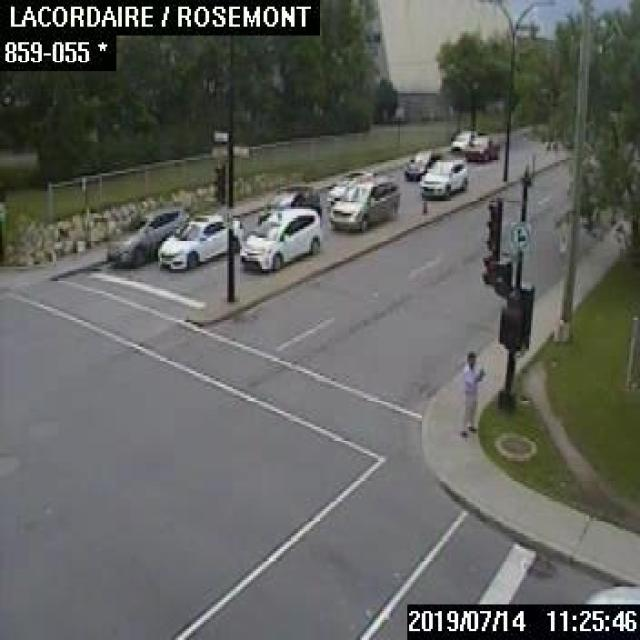pedestrian: (460, 346, 484, 436)
vehicle: (238, 208, 320, 269), (106, 207, 186, 267), (156, 214, 239, 268), (328, 179, 399, 229), (256, 184, 320, 223), (419, 157, 466, 195), (326, 169, 378, 202), (404, 150, 440, 178), (582, 585, 638, 602), (464, 135, 498, 160), (448, 128, 476, 152)
